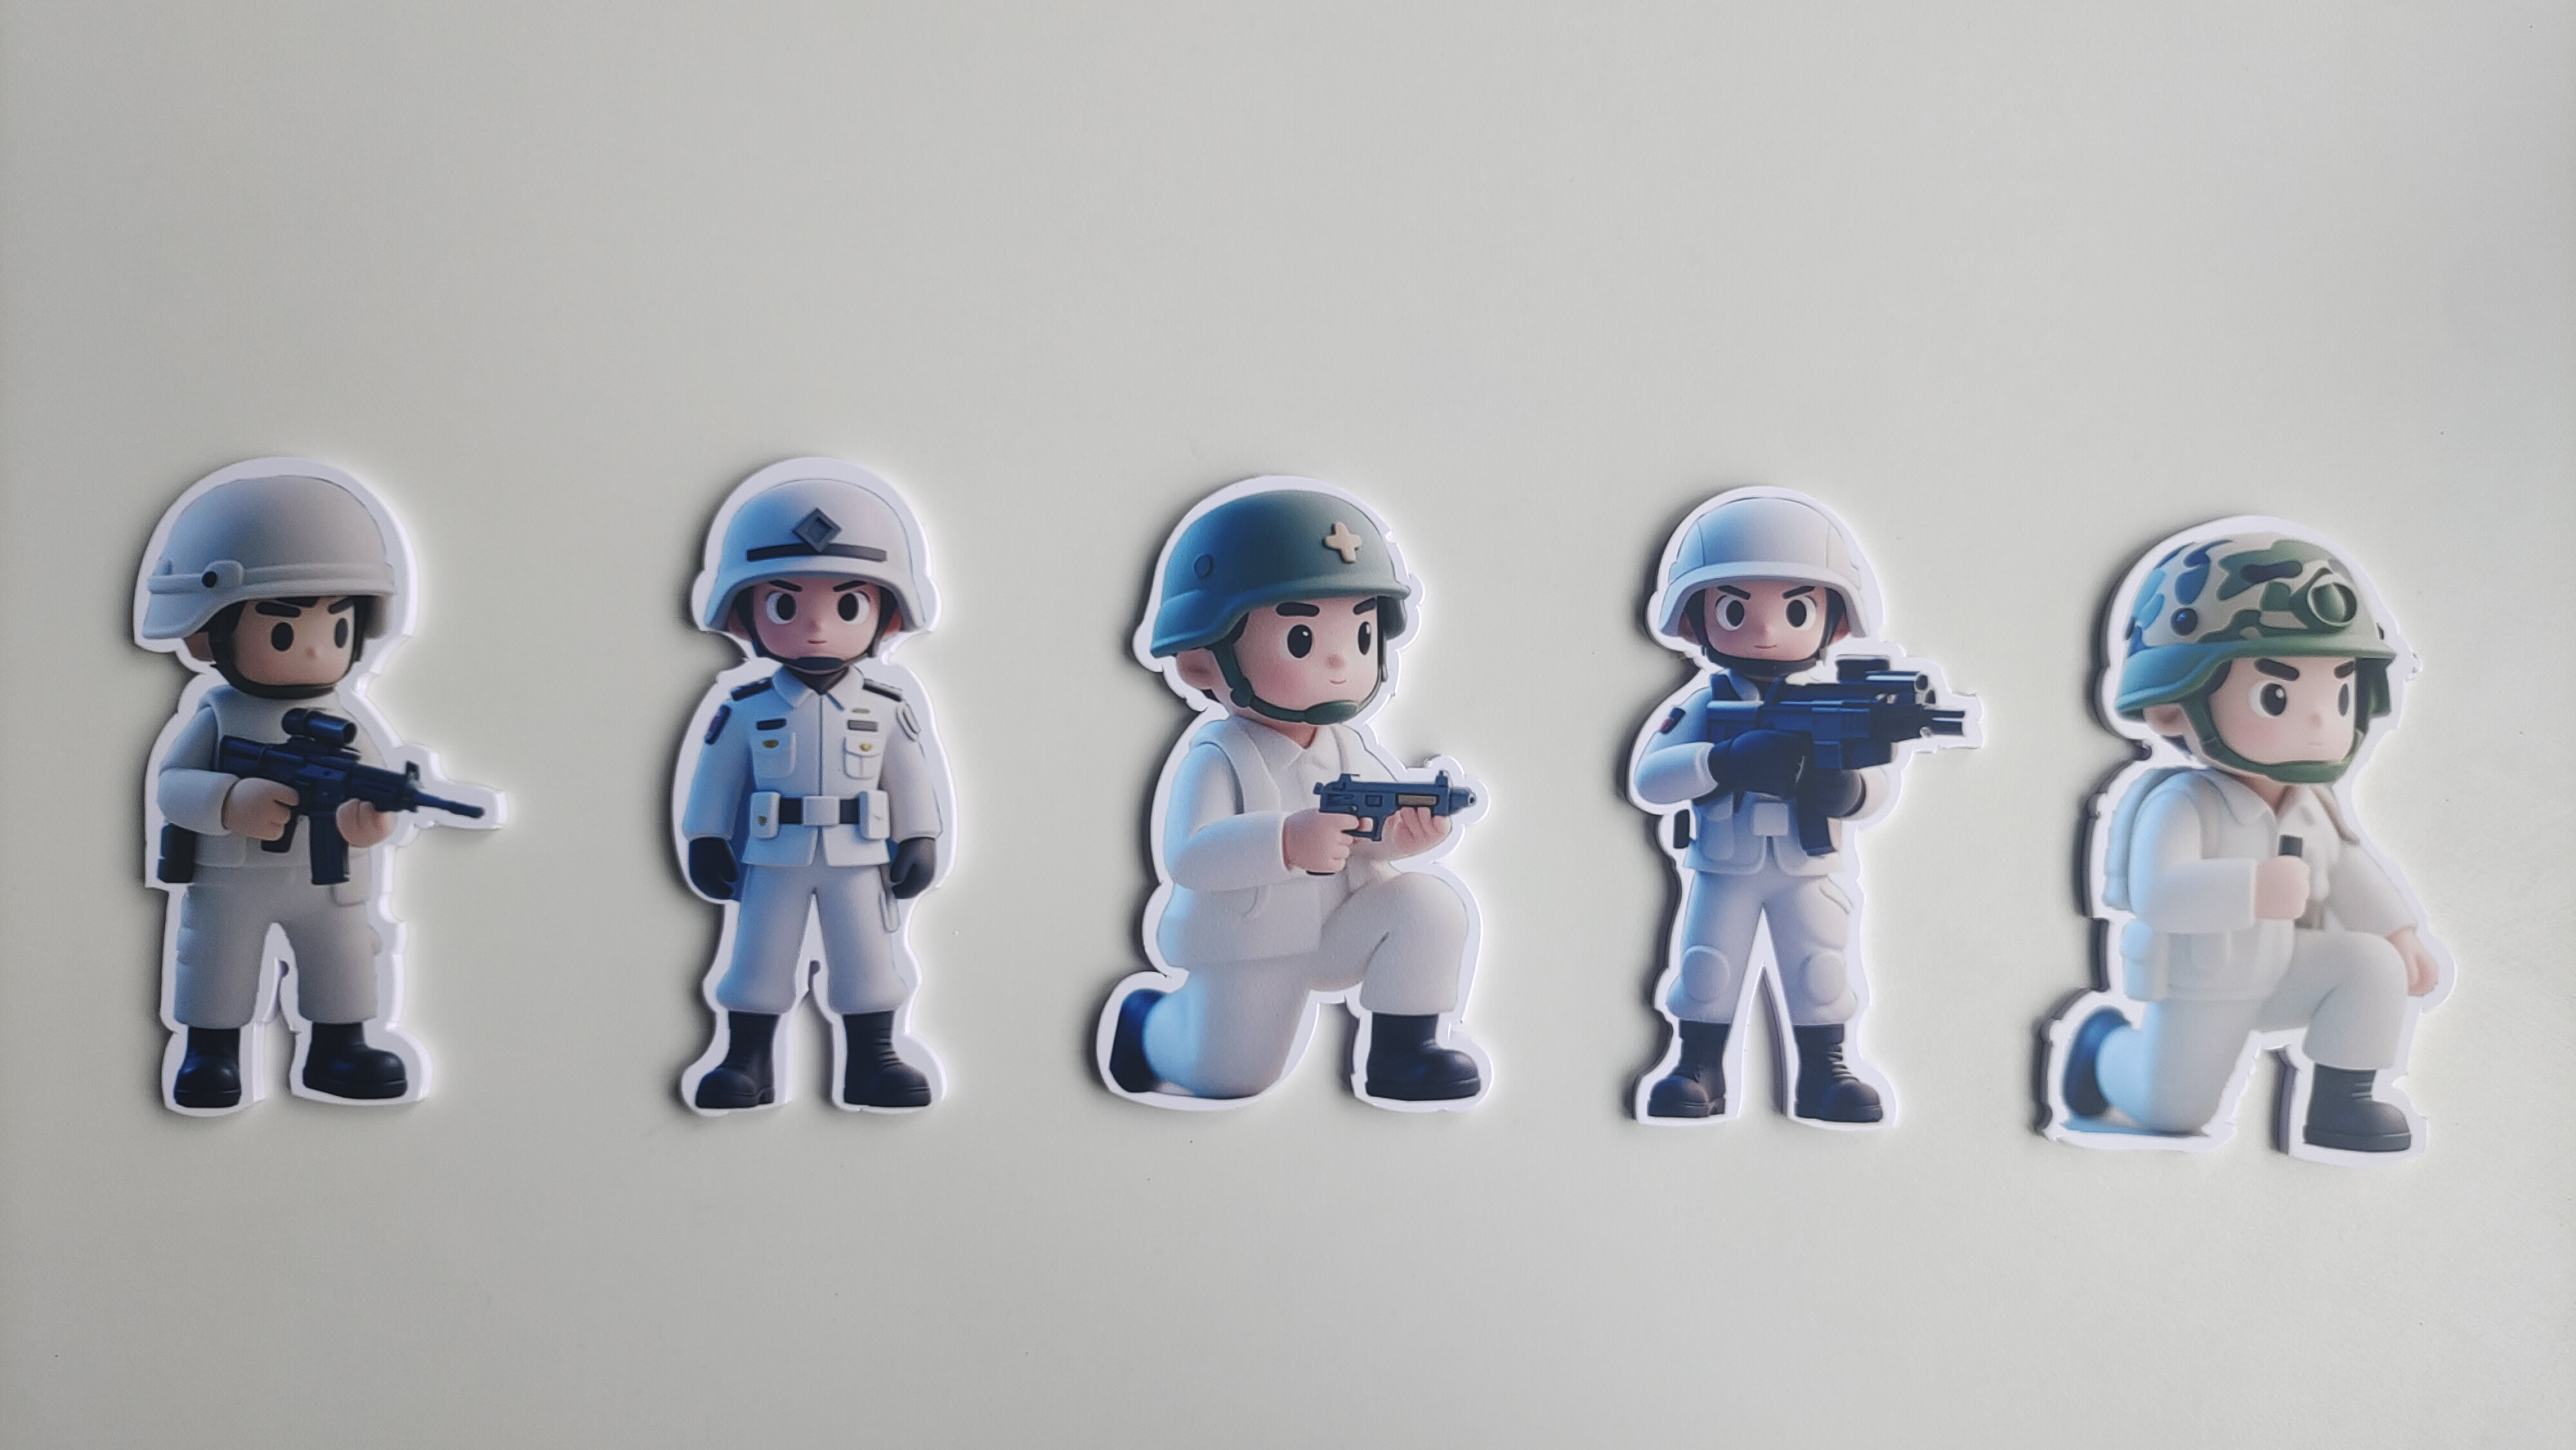hostage: (2022, 767, 2473, 1181), (1083, 725, 1499, 1126), (649, 658, 966, 1126), (131, 686, 467, 1123), (1608, 670, 1909, 1135)
